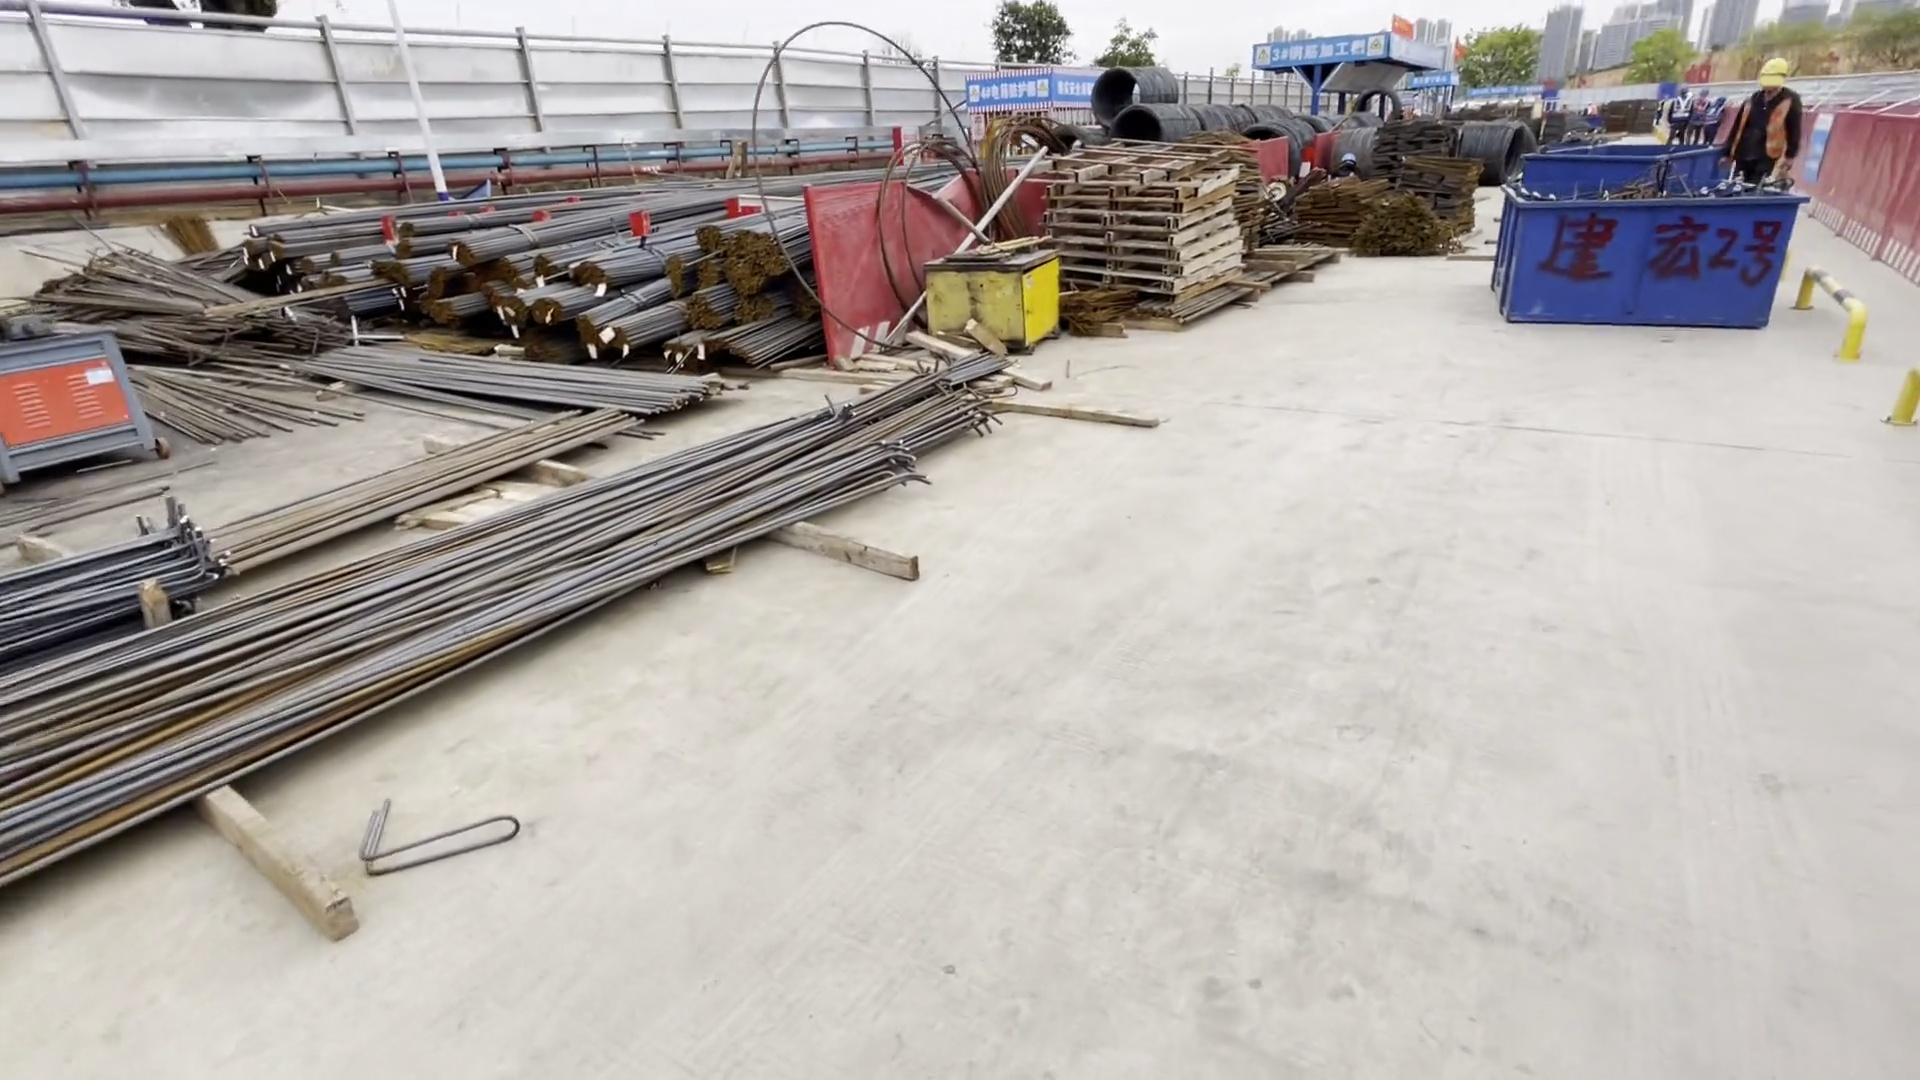fence: (1800, 108, 1920, 288)
helmet: (1758, 56, 1788, 72)
hopper: (1498, 149, 1800, 341)
person: (1724, 49, 1801, 183), (1665, 87, 1690, 144), (1688, 86, 1709, 141), (1703, 98, 1724, 143)
rebar: (1, 355, 1026, 911), (1, 245, 688, 428), (236, 187, 808, 373)
vest: (1738, 98, 1784, 154), (1670, 97, 1690, 122), (1702, 104, 1722, 127)
